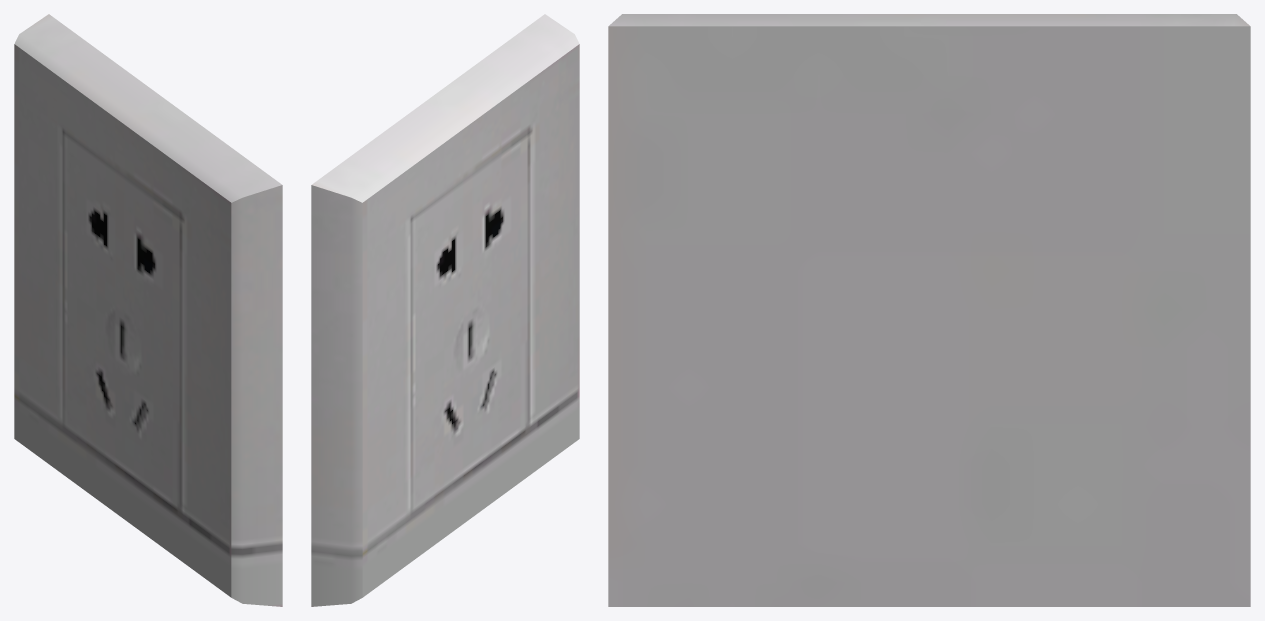
The model's file is LGL10A.FBX.
The picture shows the model from 3 angles, left to right: view 1: azimuth 30°, elevation 25°; view 2: azimuth 150°, elevation 25°; view 3: azimuth 270°, elevation 25°; orthographic projection. The views are drawn at different scales.
Visible parts, largest first — view 1: LGL10A; view 2: LGL10A; view 3: LGL10A.
Part boxes in pixels (<box>): LGL10A: <box>14,14,282,606</box>; LGL10A: <box>311,14,579,606</box>; LGL10A: <box>608,14,1250,606</box>.
Size of the model in its own units: 1.07 by 10.13 by 10.1.
